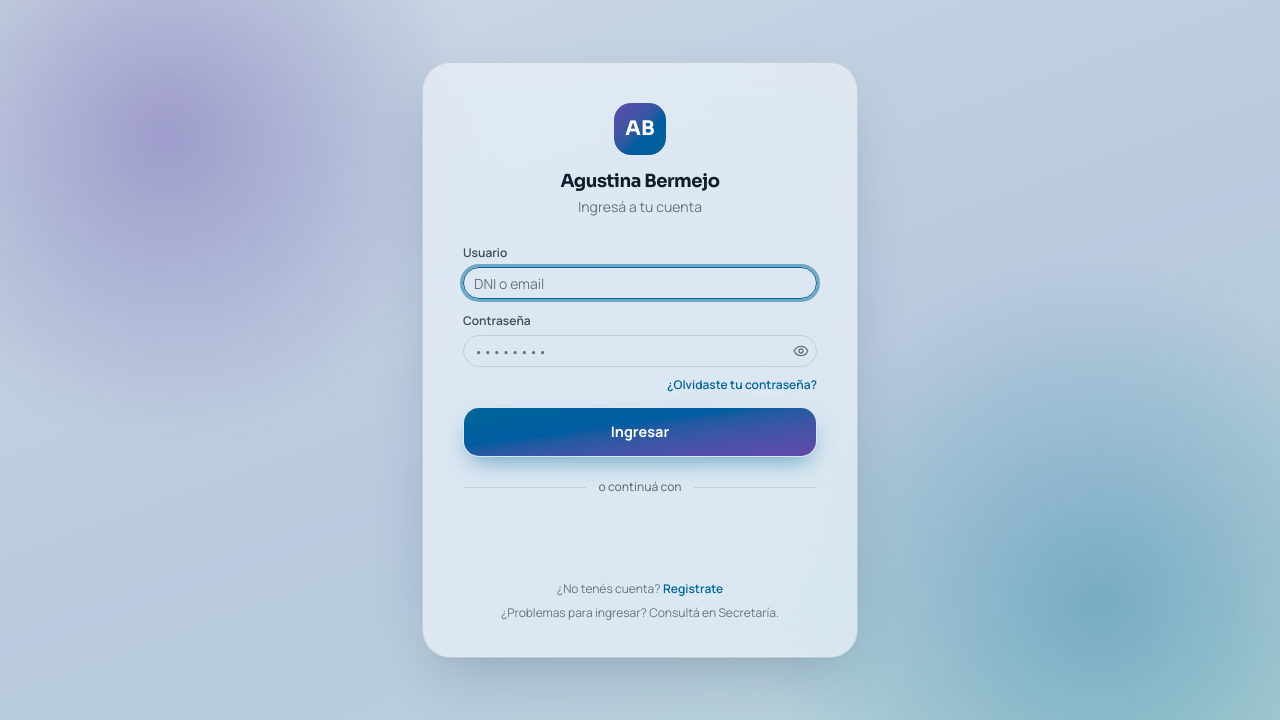
Test: Login › muestra el mensaje de rate limit, distinto del de credenciales inválidas, en un 429
Step 1. Type "prueba.login" into the field with placeholder "DNI o email" → (640, 283), box x1=463 y1=267 x2=817 y2=299
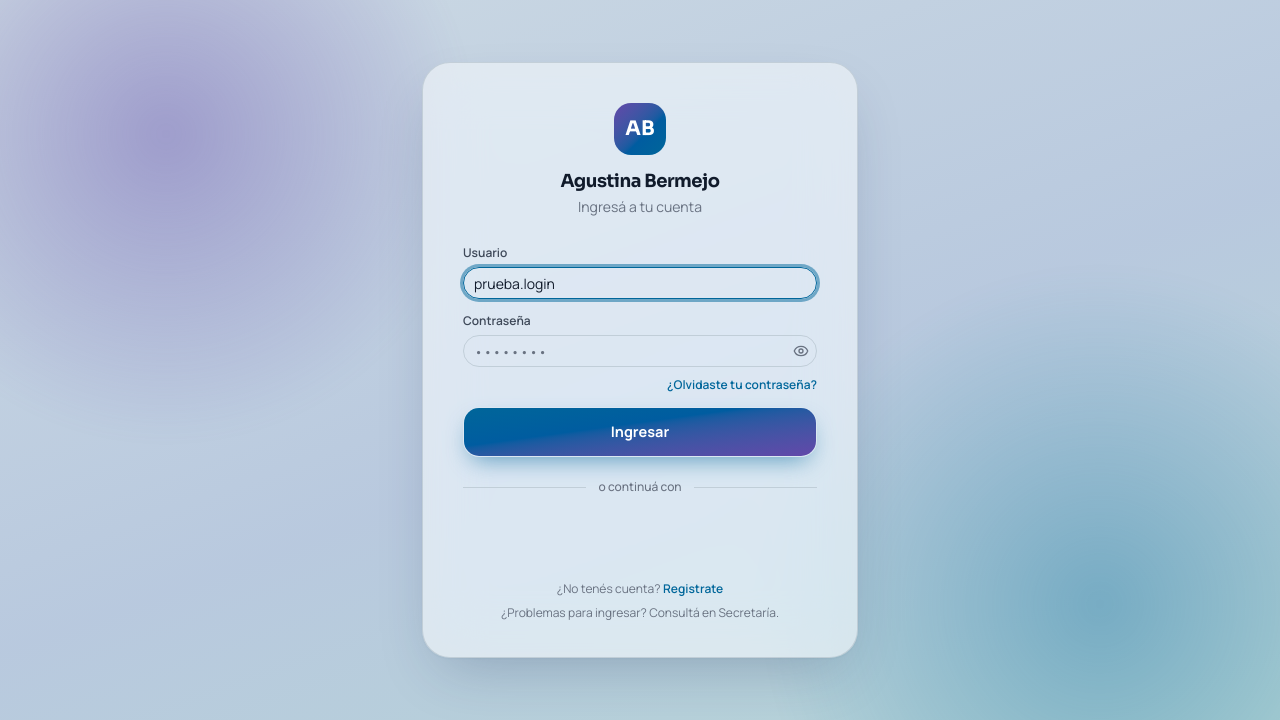
Step 2. Type "Test1234" into the password field with placeholder "••••••••" → (640, 351), box x1=463 y1=335 x2=817 y2=367
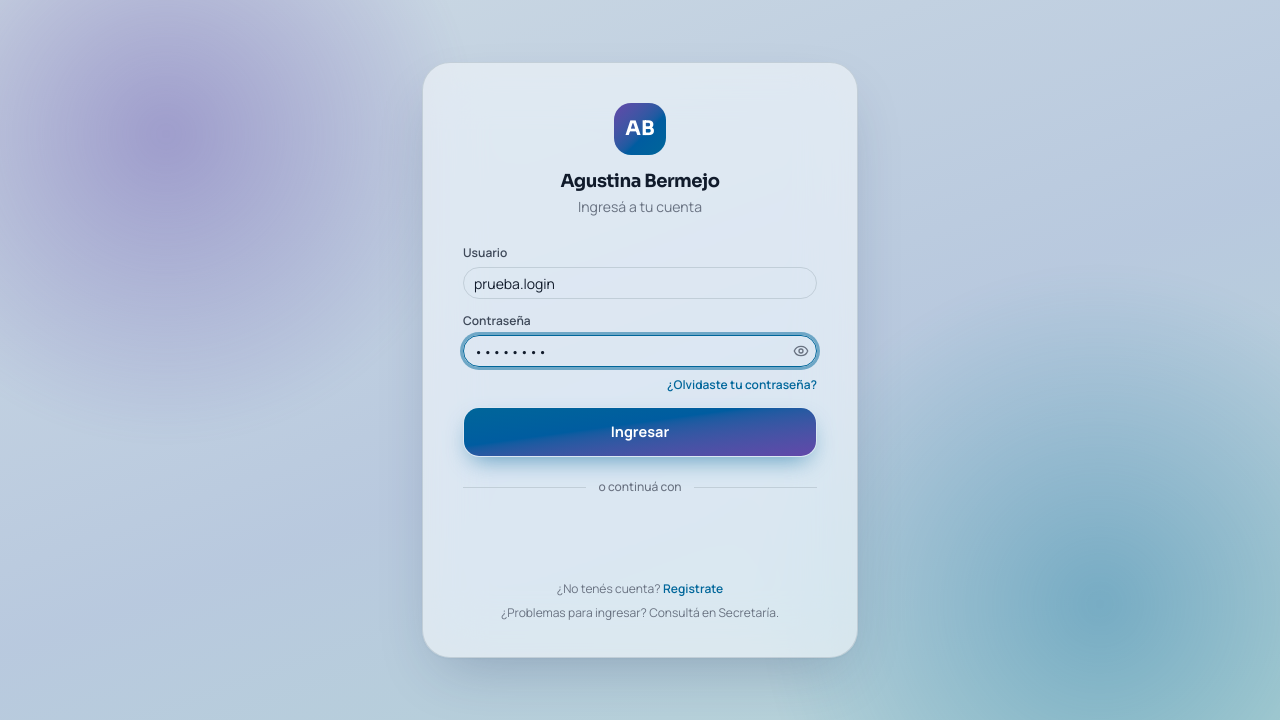
Step 3. Click the button "Ingresar" → (640, 432), box x1=463 y1=407 x2=817 y2=457
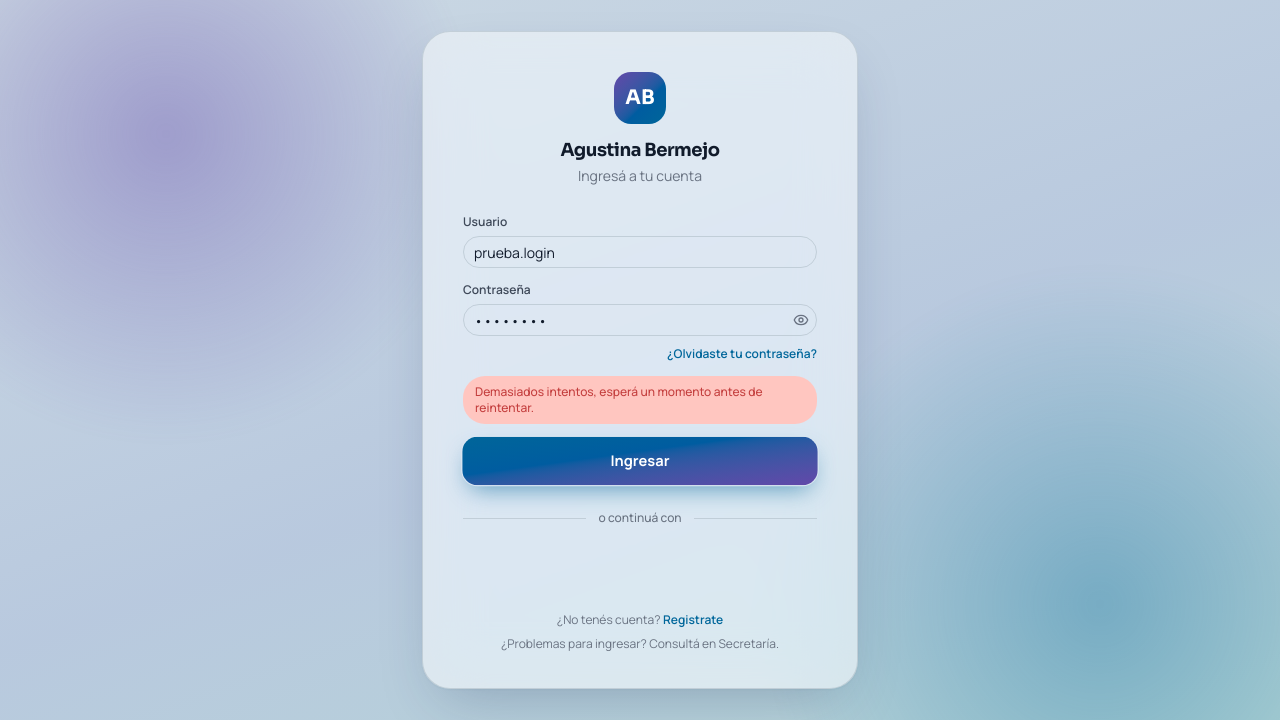
Expected: the text "Demasiados intentos, esperá un momento antes de reintentar." is shown, x1=463 y1=376 x2=817 y2=424
